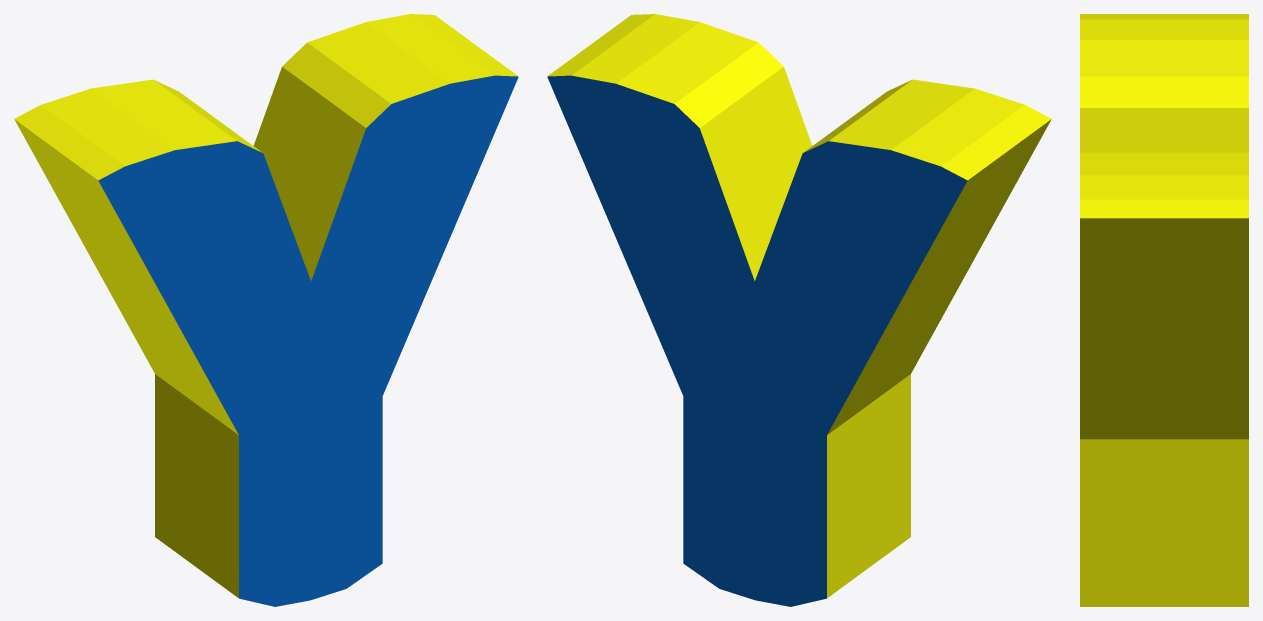
The picture shows the model from 3 angles, left to right: view 1: azimuth 30°, elevation 25°; view 2: azimuth 150°, elevation 25°; view 3: azimuth 270°, elevation 25°; orthographic projection.
Visible parts, largest first — view 1: text: ABCDEFGHIJKLMNOPQRSTUVWXYZ01234567891_sep25_blue, text: ABCDEFGHIJKLMNOPQRSTUVWXYZ01234567891_sep25_yellow; view 2: text: ABCDEFGHIJKLMNOPQRSTUVWXYZ01234567891_sep25_blue, text: ABCDEFGHIJKLMNOPQRSTUVWXYZ01234567891_sep25_yellow; view 3: text: ABCDEFGHIJKLMNOPQRSTUVWXYZ01234567891_sep25_yellow.
Part boxes in pixels (x1,y1,x2,y2): text: ABCDEFGHIJKLMNOPQRSTUVWXYZ01234567891_sep25_blue: (98,75,518,606); text: ABCDEFGHIJKLMNOPQRSTUVWXYZ01234567891_sep25_yellow: (14,14,518,598); text: ABCDEFGHIJKLMNOPQRSTUVWXYZ01234567891_sep25_blue: (547,75,967,606); text: ABCDEFGHIJKLMNOPQRSTUVWXYZ01234567891_sep25_yellow: (547,14,1051,598); text: ABCDEFGHIJKLMNOPQRSTUVWXYZ01234567891_sep25_yellow: (1080,14,1248,606).
Bounding box in the file's own units: 72.13 × 79.21 × 25.
